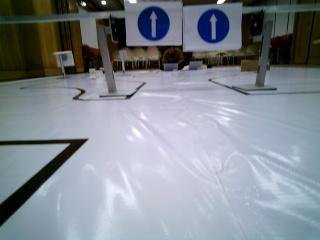straight: (123, 1, 182, 43), (183, 5, 239, 49)
